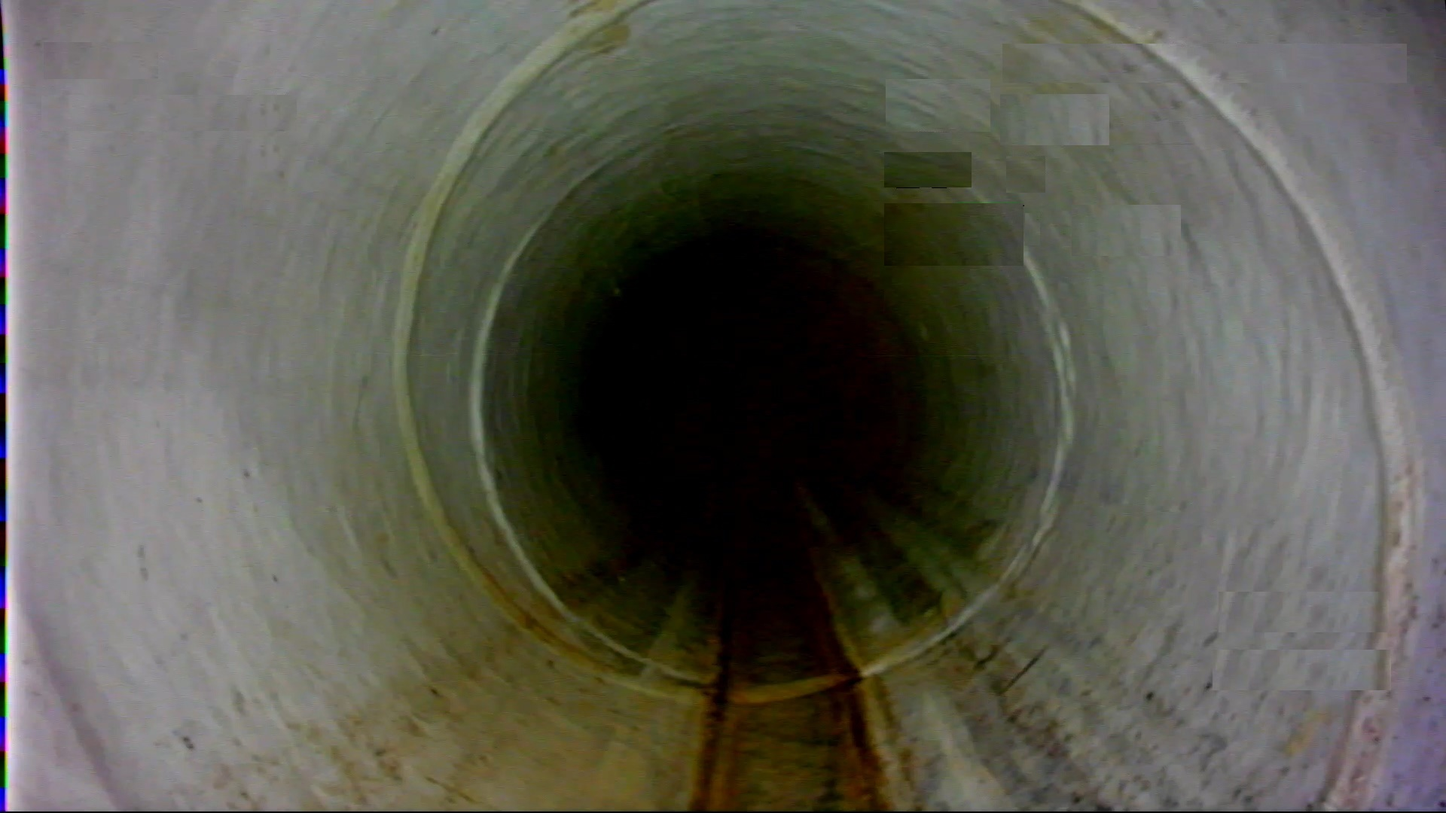circle1: (475, 109, 1074, 703)
circle2: (558, 224, 917, 566)
